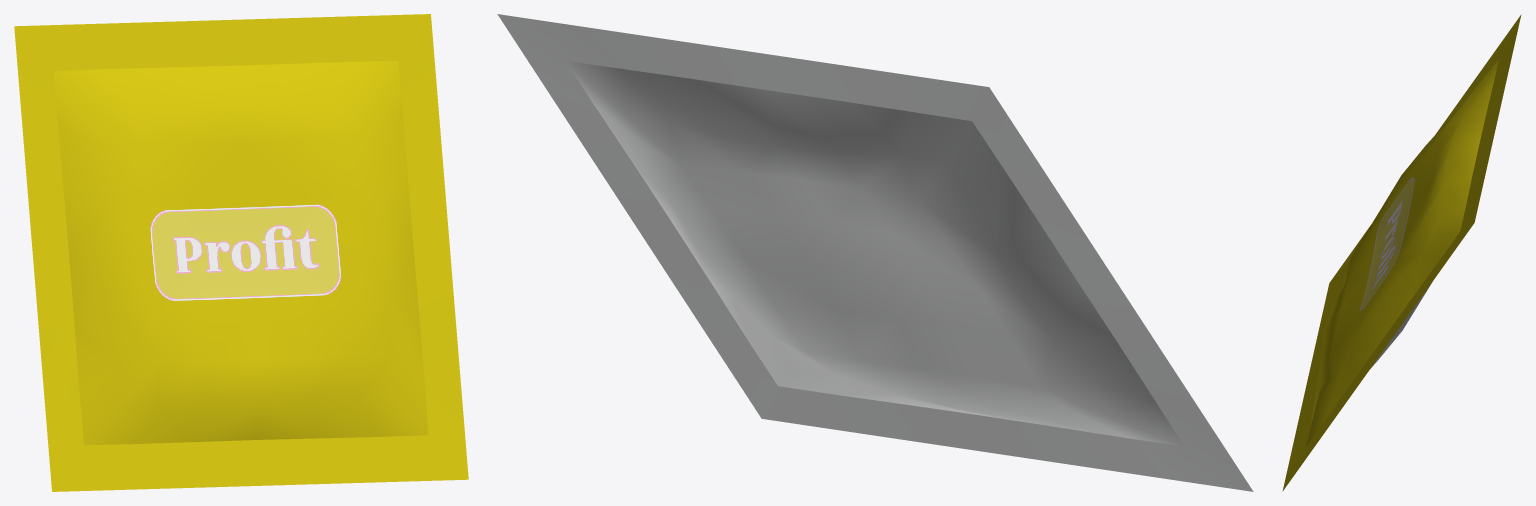
Rendered from yellow.glb.
3 views of the same model, side by side, from view 1: azimuth 30°, elevation 25°; view 2: azimuth 150°, elevation 25°; view 3: azimuth 270°, elevation 25° (orthographic). The views are drawn at different scales.
Visible parts, largest first — view 1: Condom Low Poly; view 2: Condom Low Poly; view 3: Condom Low Poly.
Part boxes in pixels (x1=…): Condom Low Poly: x1=14, y1=14, x2=468, y2=491; Condom Low Poly: x1=497, y1=14, x2=1253, y2=491; Condom Low Poly: x1=1282, y1=14, x2=1521, y2=491.
Size of the model in its own units: 2.36 by 2.05 by 1.26.
1 material, 1 textured.
